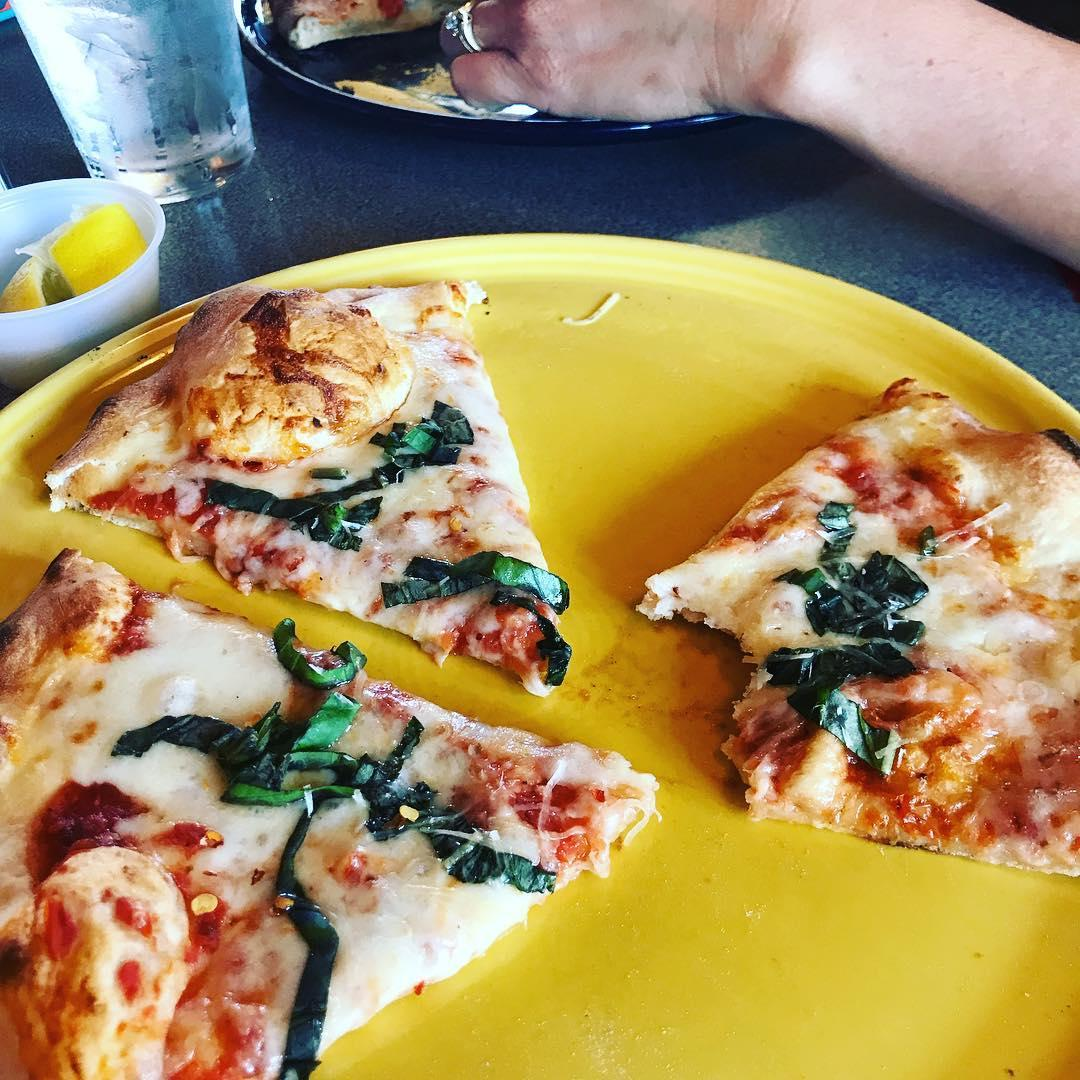Basil: (746, 486, 949, 801), (174, 404, 470, 564), (352, 706, 568, 916), (122, 678, 374, 822), (364, 548, 600, 701), (258, 816, 353, 1080), (238, 610, 380, 694)
Pizza: (0, 560, 647, 1080), (650, 375, 1080, 868), (30, 295, 561, 690)
